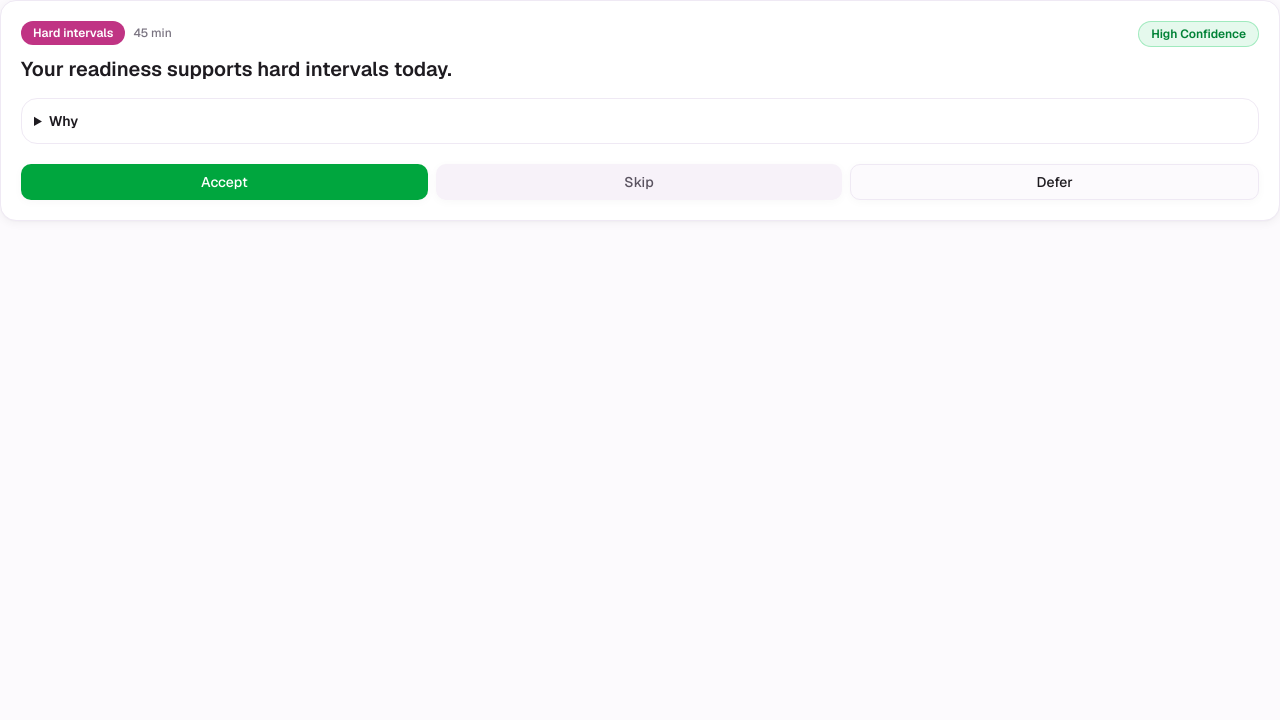
Test: TodayRecommendationCard › prevents same-day or past defer dates at the UI level
Click the button "Defer". click: coordinates (1055, 182)
box: [850,164,1259,200]
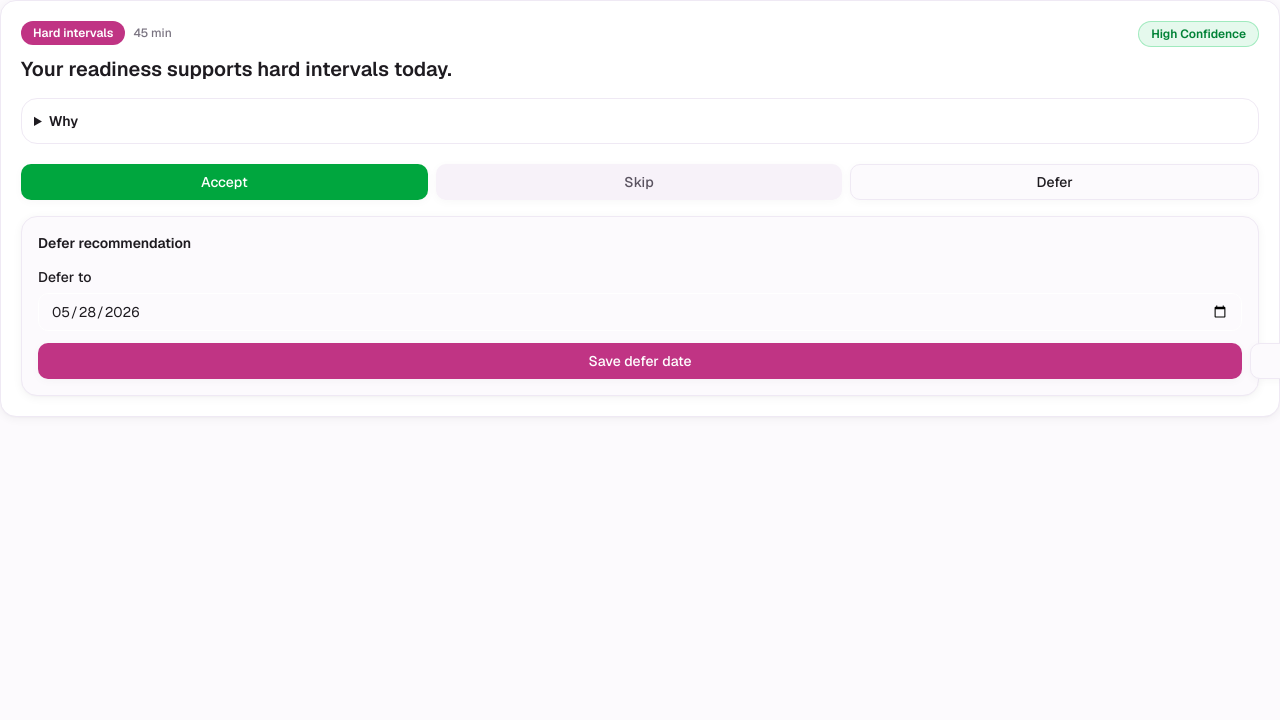
Type "2026-05-27" into the date field labelled "Defer to". click: coordinates (640, 312)
box: [38,293,1242,331]
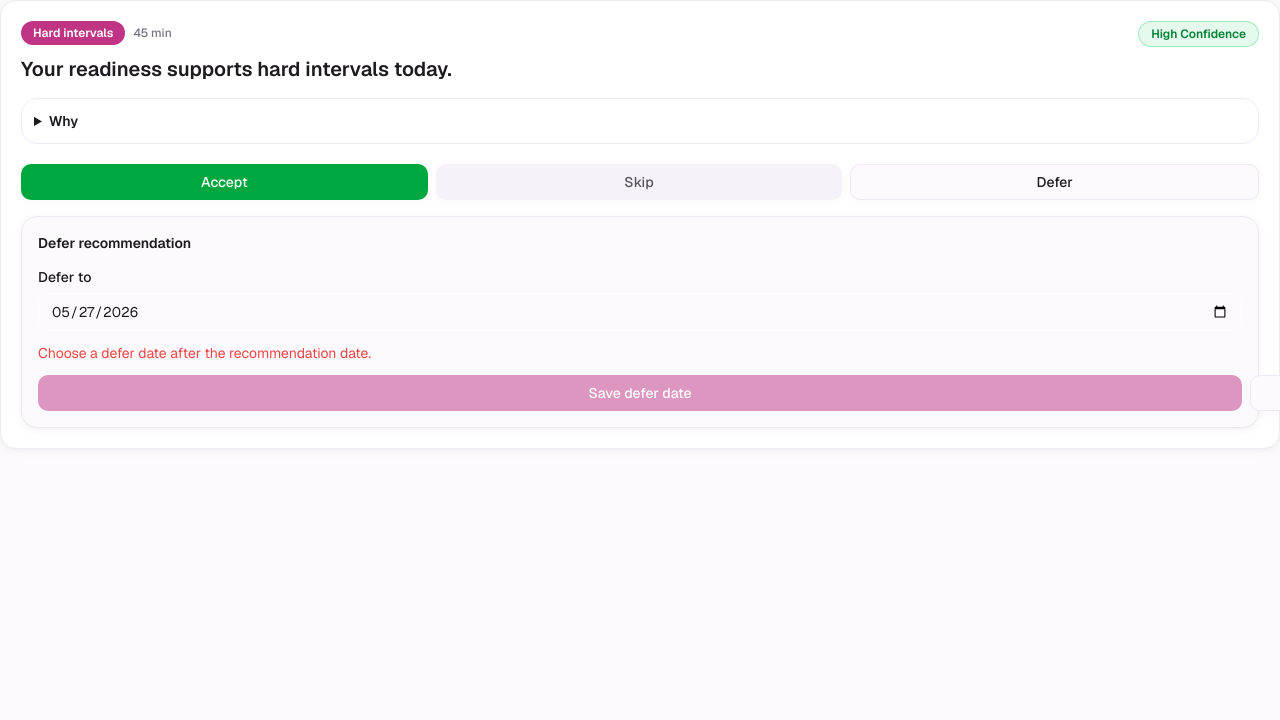
Check: the text "Choose a defer date after the recommendation date." is shown, box [38,344,371,362]
Check: the button "Save defer date" is disabled, box [38,375,1242,411]
